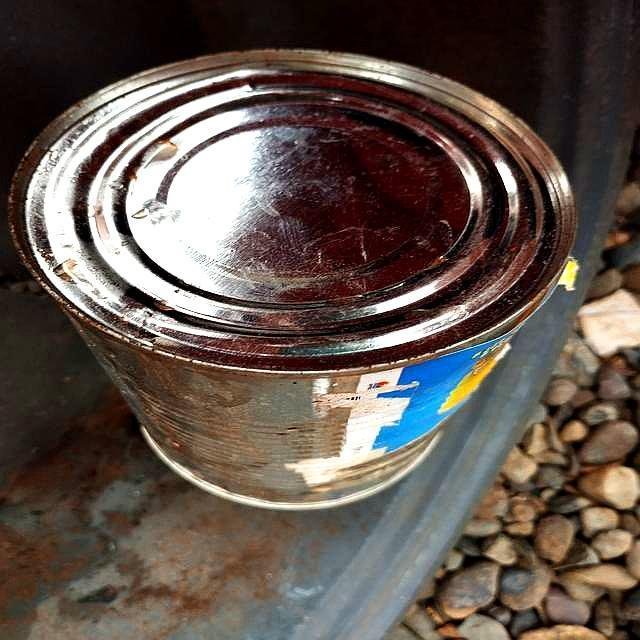Non-biodegradable: (7, 45, 580, 513)
